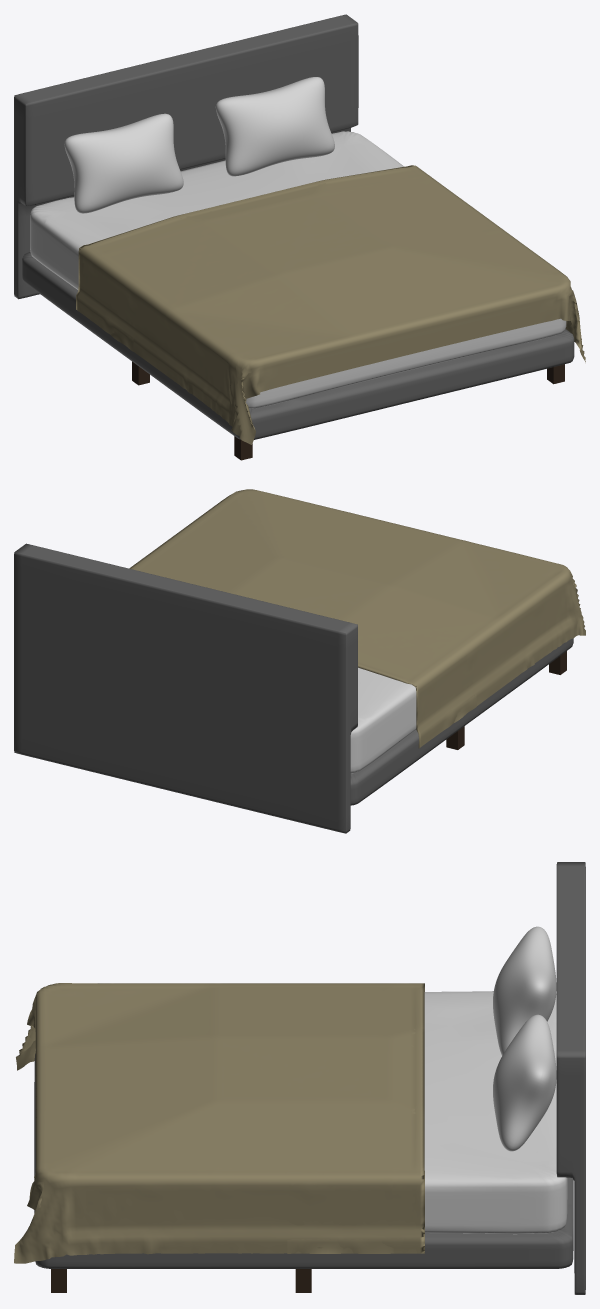
Rendered from bed.glb.
3 renders of one model, top to bottom at view 1: azimuth 30°, elevation 25°; view 2: azimuth 150°, elevation 25°; view 3: azimuth 270°, elevation 25°, orthographic. The views are drawn at different scales.
Parts seen in each view (by area): view 1: Plane, Cube.002, Cube.008, Cube, Cube.001, Cube.007; view 2: Cube.002, Plane, Cube.008, Cube; view 3: Plane, Cube.008, Cube, Cube.002, Cube.007, Cube.001.
Boxes of the visible parts, x1=… form: Plane: x1=76, y1=165, x2=585, y2=444; Cube.002: x1=14, y1=14, x2=358, y2=299; Cube.008: x1=30, y1=131, x2=566, y2=408; Cube: x1=22, y1=252, x2=574, y2=439; Cube.001: x1=64, y1=113, x2=183, y2=213; Cube.007: x1=215, y1=77, x2=334, y2=176; Cube.002: x1=14, y1=543, x2=357, y2=833; Plane: x1=129, y1=489, x2=585, y2=748; Cube.008: x1=350, y1=667, x2=416, y2=773; Cube: x1=350, y1=638, x2=573, y2=805; Plane: x1=14, y1=983, x2=424, y2=1263; Cube.008: x1=424, y1=991, x2=567, y2=1234; Cube: x1=34, y1=1053, x2=573, y2=1268; Cube.002: x1=556, y1=862, x2=585, y2=1294; Cube.007: x1=493, y1=1014, x2=556, y2=1151; Cube.001: x1=493, y1=926, x2=556, y2=1055.
Bounding box in the file's own units: 3.65 × 2.01 × 4.32.
